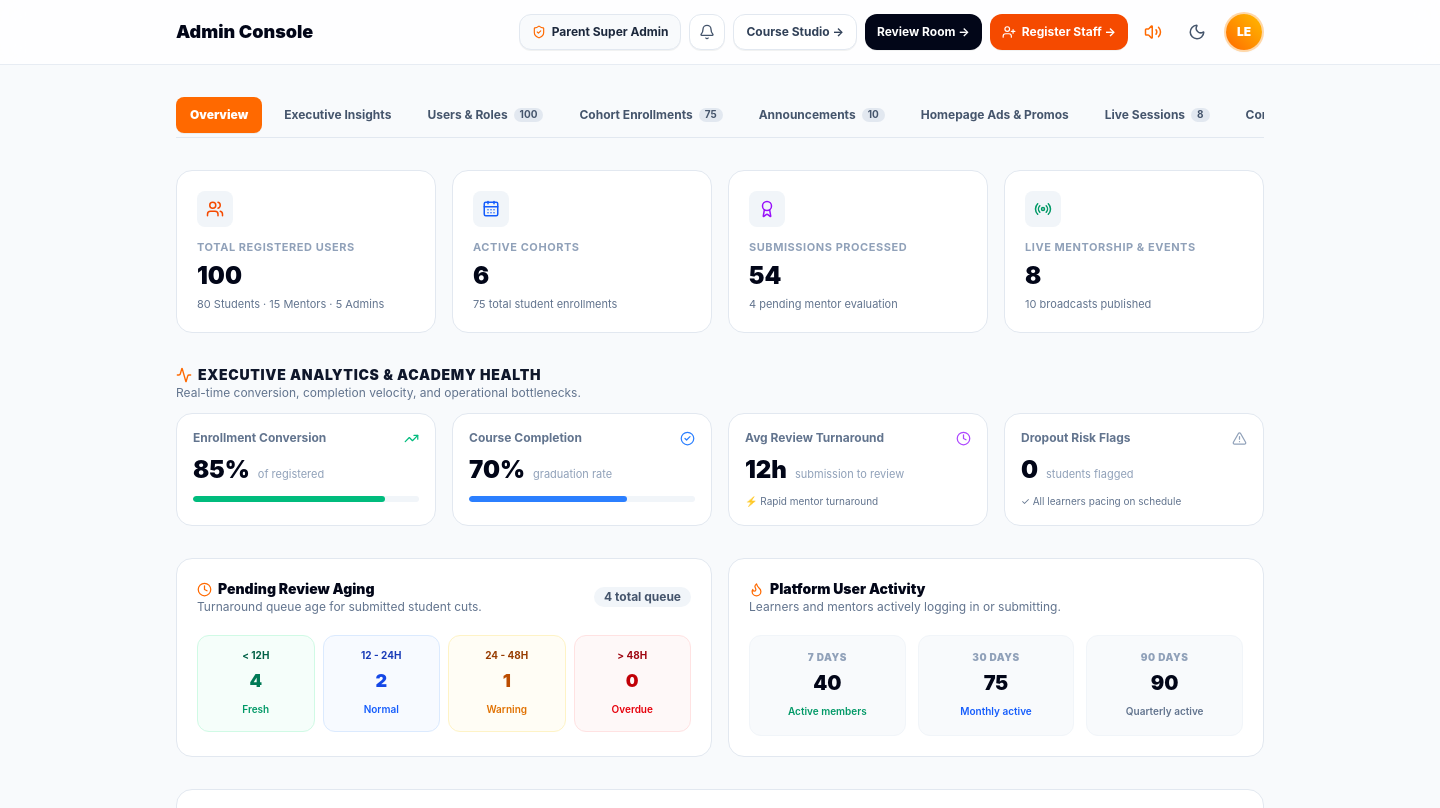
it: Course Demand & Enrollment Distribution Visual Report UI › toggles between Chart View and Enterprise Data Matrix mode
Step 1. Click the button "Executive Insights" → (338,115), box [270, 97, 405, 133]
(page scrolled)
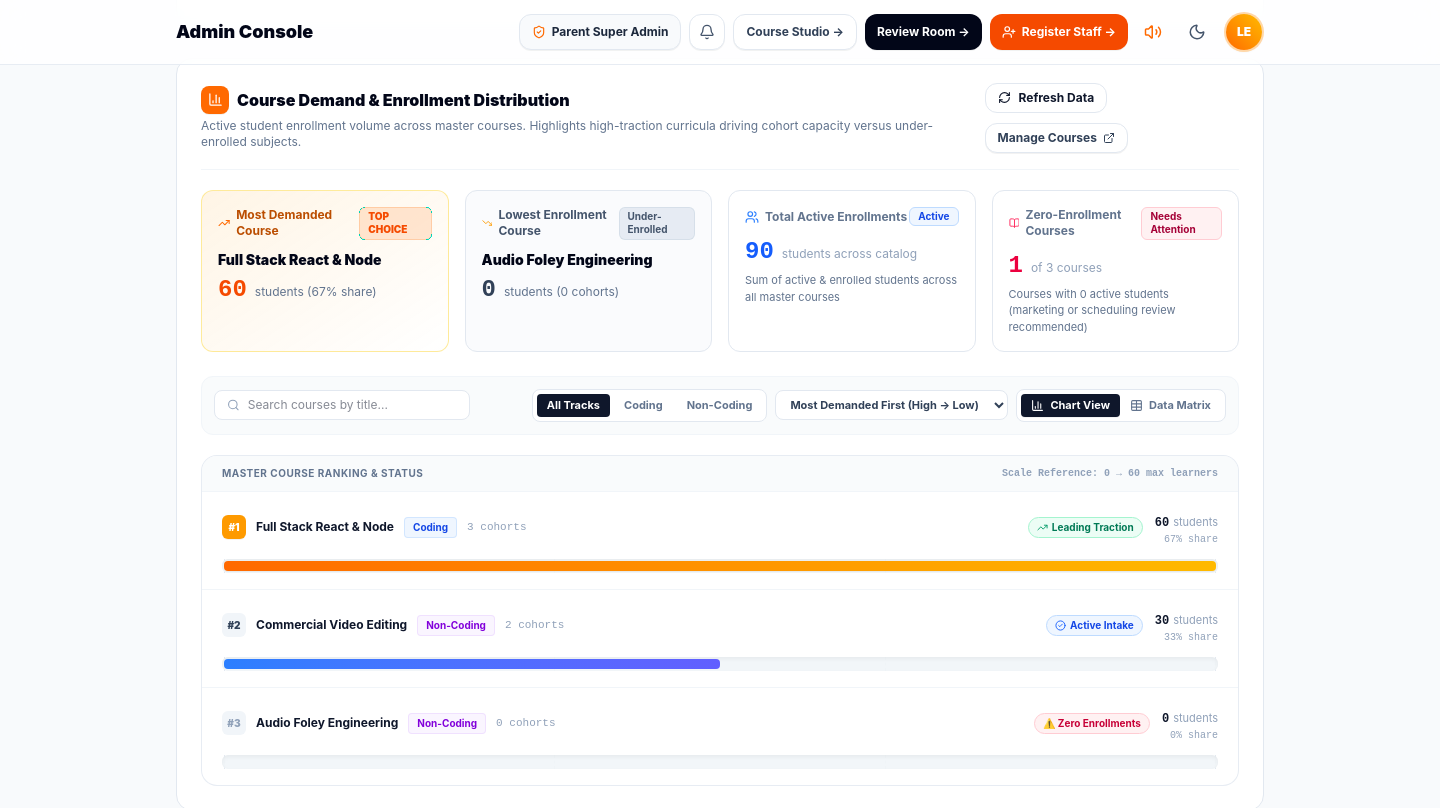
Result: the heading "Course Demand & Enrollment Distribution" is shown at [237, 88, 570, 112]
Result: the text "Scale Reference: 0 → 60 max learners" is shown at [1002, 466, 1218, 481]
Switch to Data Matrix mode
Step 2. Click the button "Data Matrix" → (1170,405), box [1120, 394, 1221, 417]
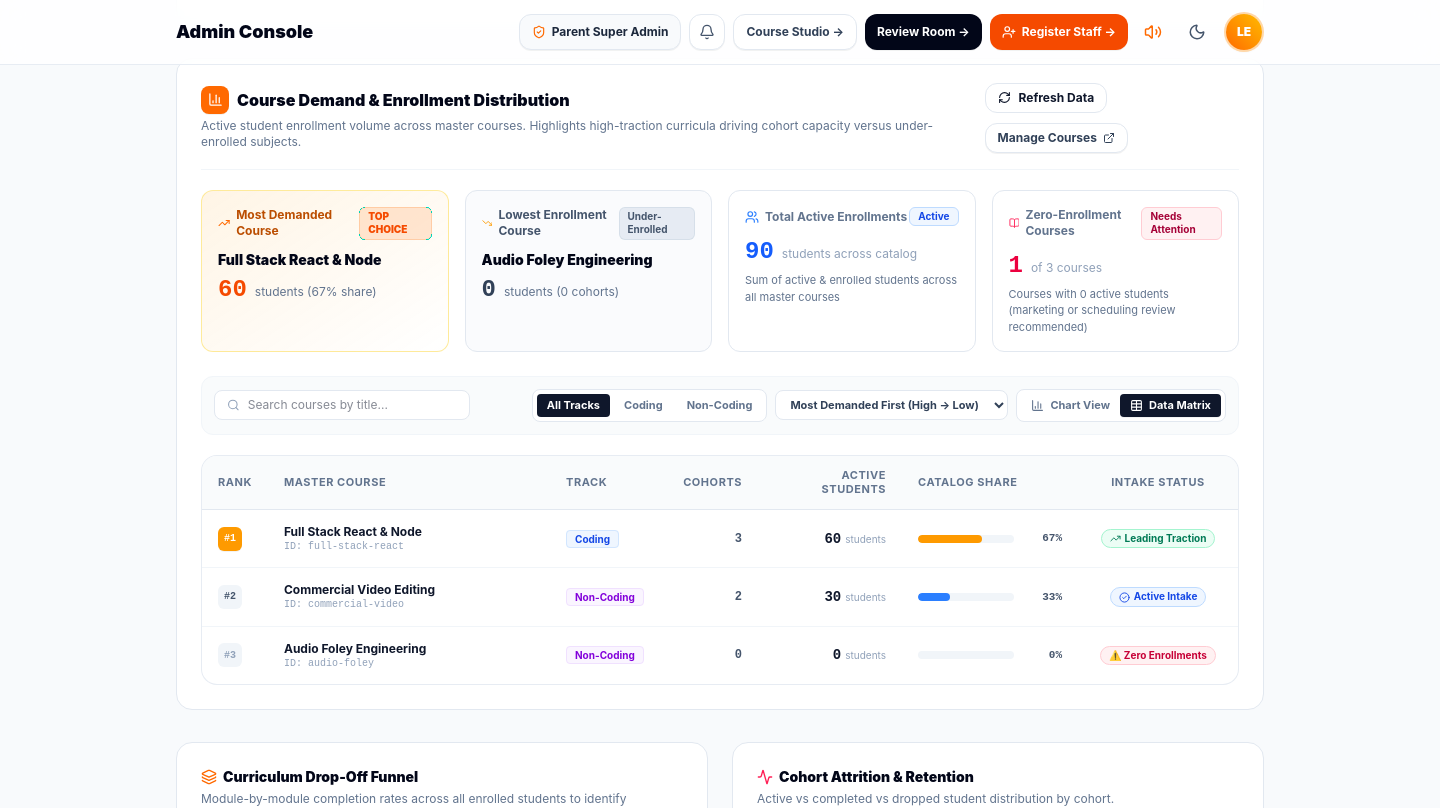
Result: the column heading "Master Course" is shown at [268, 456, 550, 510]
Result: the column heading "Catalog Share" is shown at [902, 456, 1078, 510]
Result: the column heading "Intake Status" is shown at [1078, 456, 1238, 510]
Switch back to Chart View
Step 3. Click the button "Chart View" → (1071,405), box [1021, 394, 1120, 417]
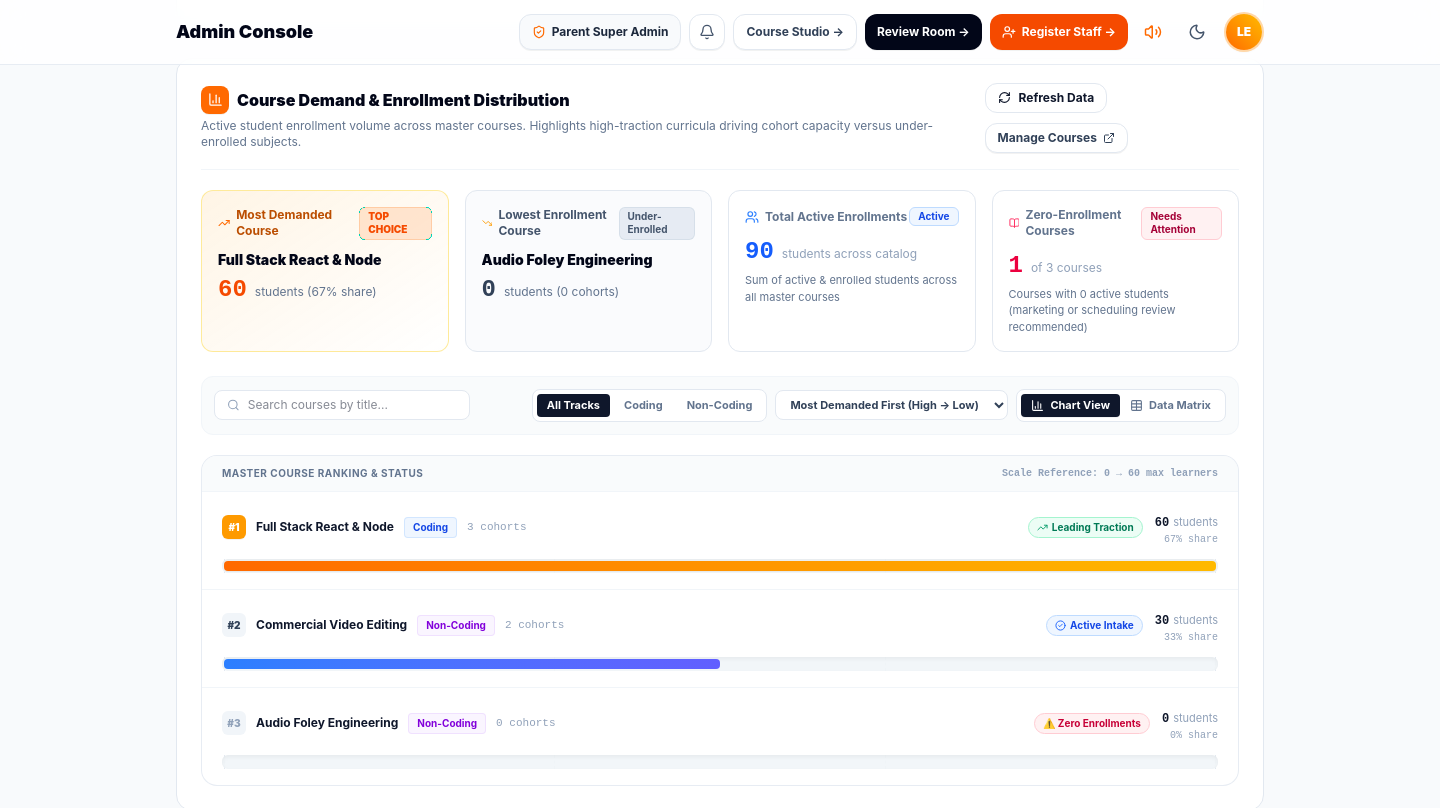
Result: the text "Scale Reference: 0 → 60 max learners" is shown at [1002, 466, 1218, 481]
